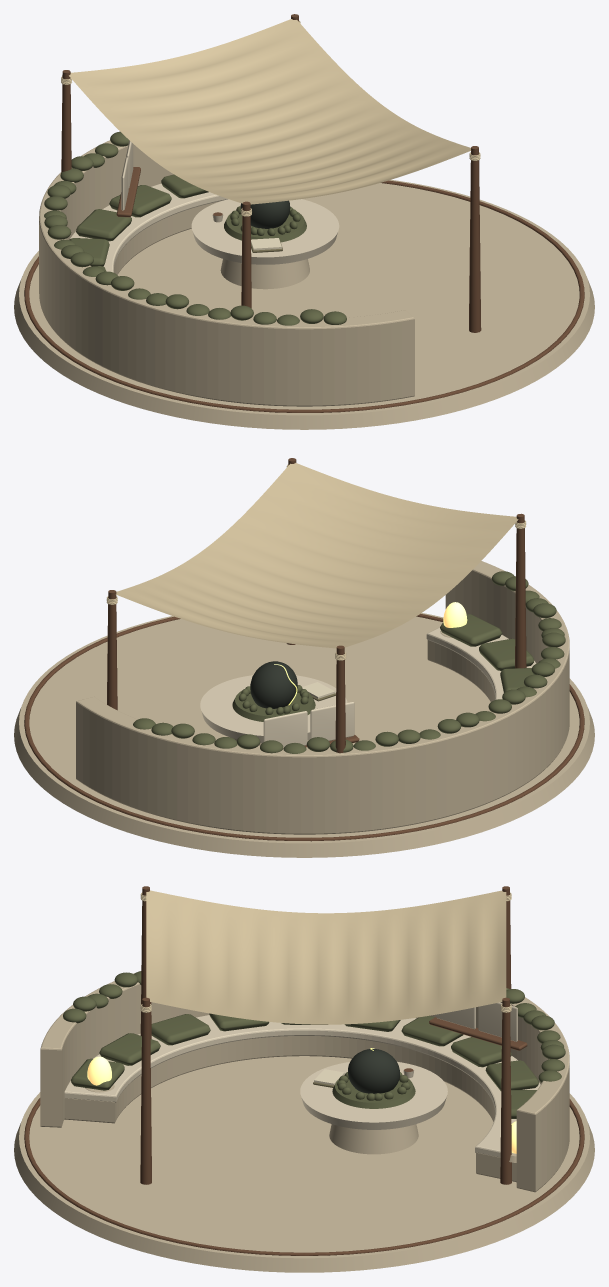
The model's file is hearth-cove.glb.
The picture shows the model from 3 angles, top to bottom: view 1: azimuth 30°, elevation 25°; view 2: azimuth 150°, elevation 25°; view 3: azimuth 270°, elevation 25°; orthographic projection.
Parts seen in each view (by area): view 1: Mesh_Platform, Mesh_LinenCanopy, Mesh_CurvedBack, Mesh_CreationTable, Mesh_PlatformInlay, Mesh_SeatTop, Mesh_CanopyMast_1, Mesh_TableFoot, Mesh_SeatPlinth, Mesh_MossCushion_7, Mesh_CanopyMast_3, Mesh_MossCushion_8 (+6 smaller); view 2: Mesh_CurvedBack, Mesh_Platform, Mesh_LinenCanopy, Mesh_PlatformInlay, Mesh_CreationTable, Mesh_KilnSeedstone, Mesh_CanopyMast_3, Mesh_SeatTop, Mesh_SeatPlinth, Mesh_ReferenceFrame_0, Mesh_ReferenceFrame_1, Mesh_CanopyMast_0 (+5 smaller); view 3: Mesh_Platform, Mesh_LinenCanopy, Mesh_CurvedBack, Mesh_SeatPlinth, Mesh_SeatTop, Mesh_CreationTable, Mesh_PlatformInlay, Mesh_TableFoot, Mesh_KilnSeedstone, Mesh_CanopyMast_1, Mesh_CanopyMast_0, Mesh_MossCushion_2 (+13 smaller).
Boxes of the visible parts, box(x1,y1,x2,y2) form: Mesh_Platform: box(14, 180, 594, 429); Mesh_LinenCanopy: box(69, 19, 470, 204); Mesh_CurvedBack: box(39, 140, 414, 406); Mesh_CreationTable: box(191, 199, 339, 264); Mesh_PlatformInlay: box(24, 180, 584, 412); Mesh_SeatTop: box(70, 183, 227, 272); Mesh_CanopyMast_1: box(469, 146, 481, 332); Mesh_TableFoot: box(220, 259, 309, 289); Mesh_SeatPlinth: box(113, 201, 220, 274); Mesh_MossCushion_7: box(76, 209, 131, 241); Mesh_CanopyMast_3: box(241, 201, 251, 308); Mesh_MossCushion_8: box(109, 185, 171, 217); Mesh_CurvedBack: box(76, 561, 569, 834); Mesh_Platform: box(14, 613, 594, 857); Mesh_LinenCanopy: box(116, 463, 518, 648); Mesh_PlatformInlay: box(24, 613, 584, 841); Mesh_CreationTable: box(200, 675, 347, 743); Mesh_KilnSeedstone: box(250, 661, 297, 708); Mesh_CanopyMast_3: box(515, 513, 526, 668); Mesh_SeatTop: box(426, 627, 536, 699); Mesh_SeatPlinth: box(427, 640, 495, 701); Mesh_ReferenceFrame_0: box(263, 711, 307, 746); Mesh_ReferenceFrame_1: box(310, 702, 354, 740); Mesh_CanopyMast_0: box(107, 590, 117, 710); Mesh_Platform: box(14, 1056, 594, 1272); Mesh_LinenCanopy: box(146, 890, 506, 1024); Mesh_CurvedBack: box(40, 973, 569, 1192); Mesh_SeatPlinth: box(64, 1036, 516, 1182); Mesh_SeatTop: box(64, 1015, 540, 1157); Mesh_CreationTable: box(300, 1061, 447, 1129); Mesh_PlatformInlay: box(24, 1098, 584, 1255); Mesh_TableFoot: box(329, 1124, 418, 1154); Mesh_KilnSeedstone: box(348, 1049, 400, 1093); Mesh_CanopyMast_1: box(140, 997, 151, 1184); Mesh_CanopyMast_0: box(500, 997, 511, 1184); Mesh_MossCushion_2: box(151, 1014, 210, 1045).
Size of the model in its own units: 9.36 by 3.47 by 9.36.
